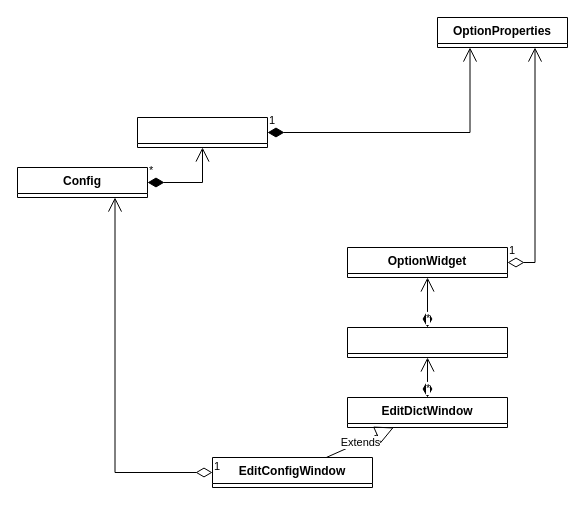
This 585x507 diagram has some shape labels left out. The shapes that lost their labels are listed below. From the top down, each one's centre as x and y in pixels, then its label:
At point 202,132: "ConfigSection".
At point 427,342: "DictWidget".
